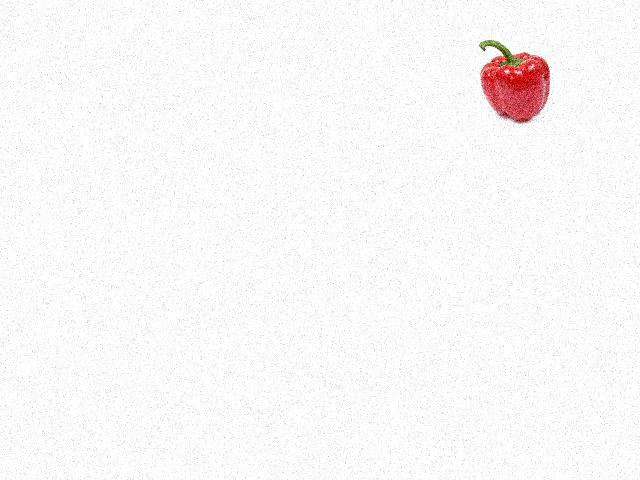bell_pepper: (475, 38, 555, 122)
